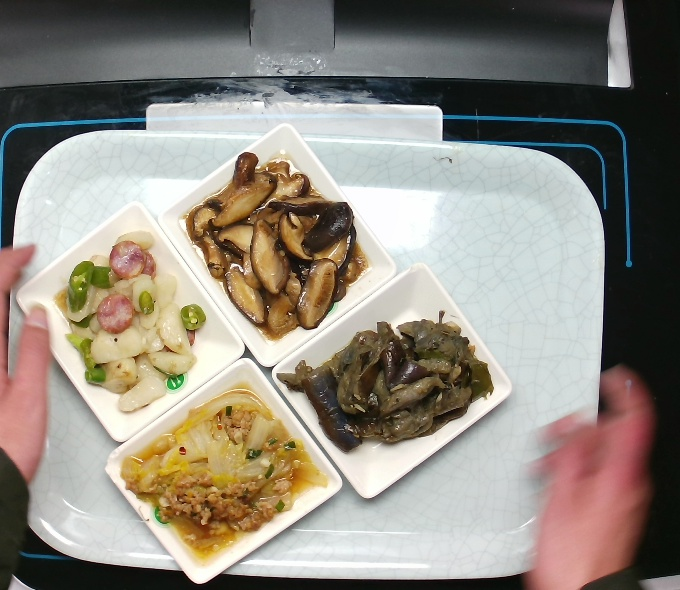wcq-MaTiGuo: (48, 225, 215, 422)
wcq-MoGu: (181, 138, 367, 337)
wcq-QieZi: (267, 309, 500, 457)
wcq-RouMoBaiCai: (120, 382, 328, 571)
